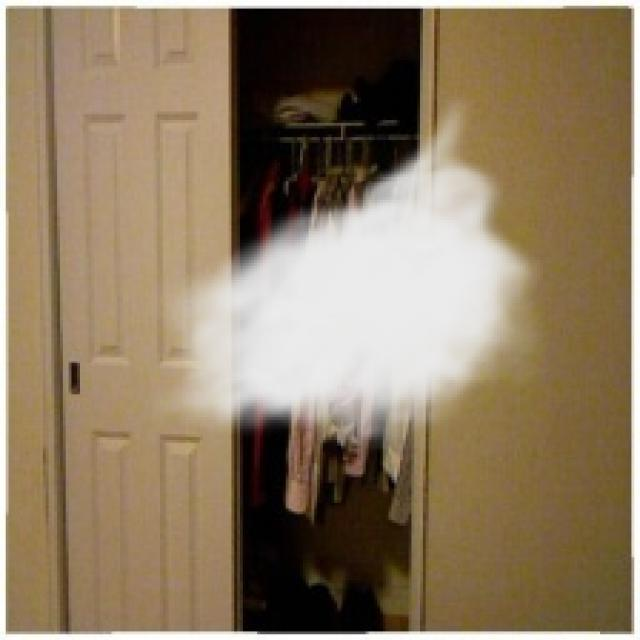Smoke: (148, 91, 548, 452)
